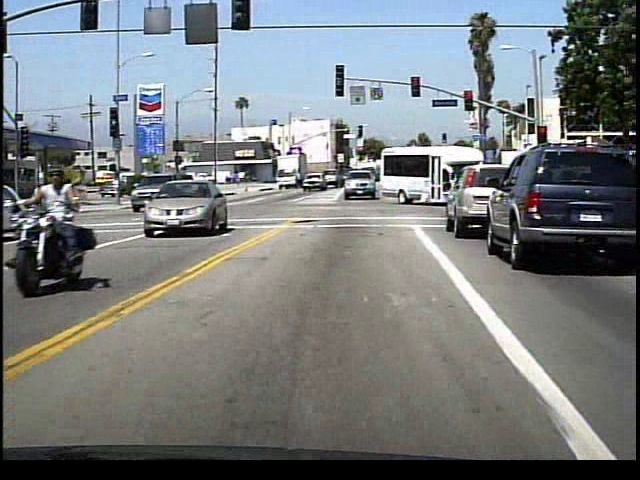person: (35, 157, 104, 287)
